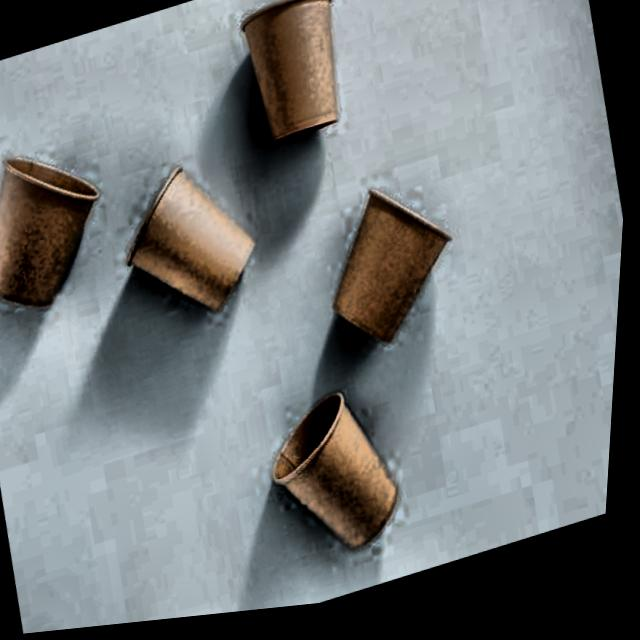Cup: (311, 163, 492, 392), (252, 373, 427, 598), (119, 151, 277, 341), (0, 122, 119, 346), (228, 0, 362, 162)
